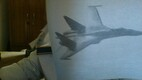maybay_muctieu: (55, 2, 142, 62)
